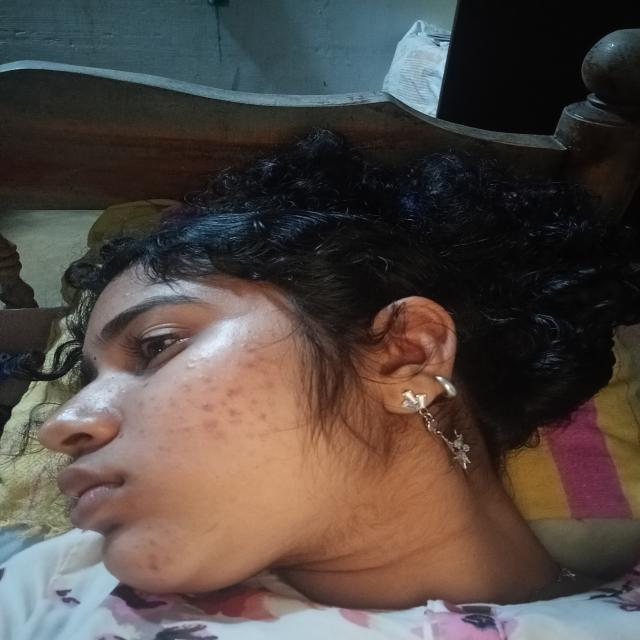Acne: (202, 419, 227, 440), (195, 372, 217, 392), (230, 408, 248, 429), (220, 396, 236, 418), (188, 352, 208, 368), (255, 380, 276, 391), (148, 550, 157, 574), (202, 399, 215, 412), (255, 411, 269, 423), (228, 384, 243, 395), (183, 397, 199, 407), (158, 443, 175, 452), (114, 430, 127, 441), (244, 344, 258, 354), (178, 420, 190, 431), (161, 426, 177, 434), (169, 401, 184, 409), (248, 399, 263, 407), (242, 360, 256, 368), (178, 384, 192, 392), (136, 426, 147, 436), (256, 354, 268, 363), (133, 400, 146, 408), (245, 434, 259, 441), (123, 290, 132, 298), (146, 396, 156, 403), (177, 414, 185, 422)
